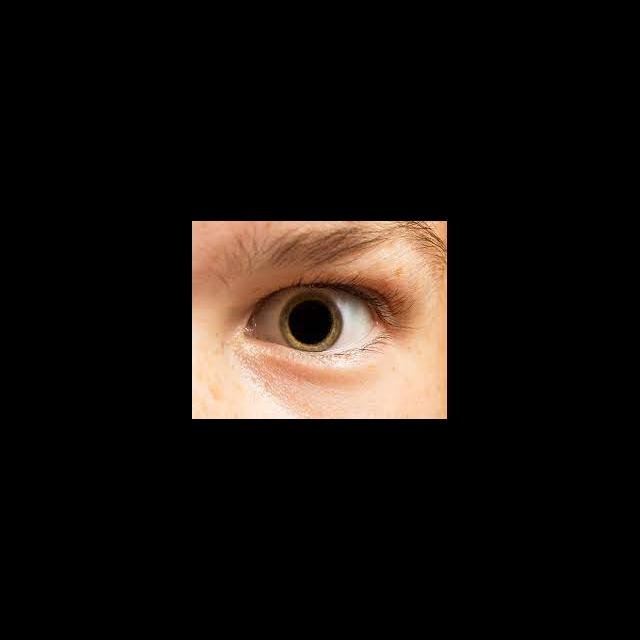eye: (255, 286, 376, 353)
iris: (280, 289, 343, 351)
